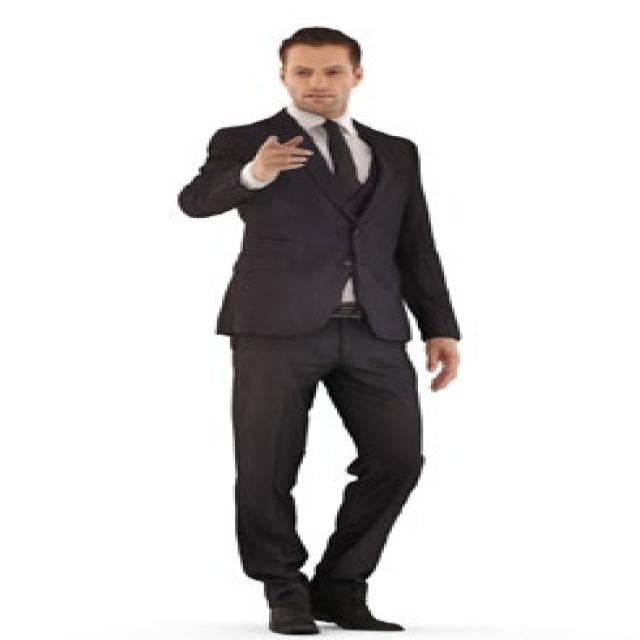standing: (175, 25, 467, 635)
